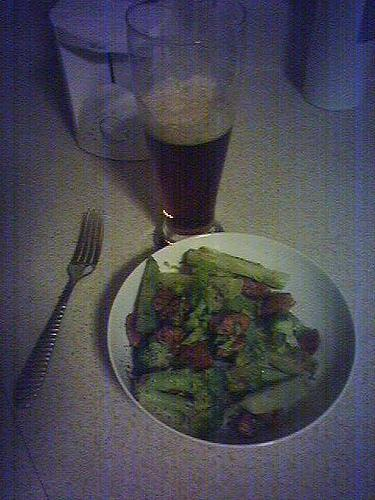broccoli: (138, 367, 230, 438), (185, 246, 289, 289), (238, 374, 314, 414), (135, 256, 163, 331), (268, 346, 319, 379), (288, 310, 320, 356), (236, 327, 270, 367), (266, 313, 300, 350), (136, 341, 174, 370), (182, 304, 212, 338), (208, 276, 245, 302), (222, 296, 256, 320), (184, 280, 207, 308), (180, 326, 207, 344)
